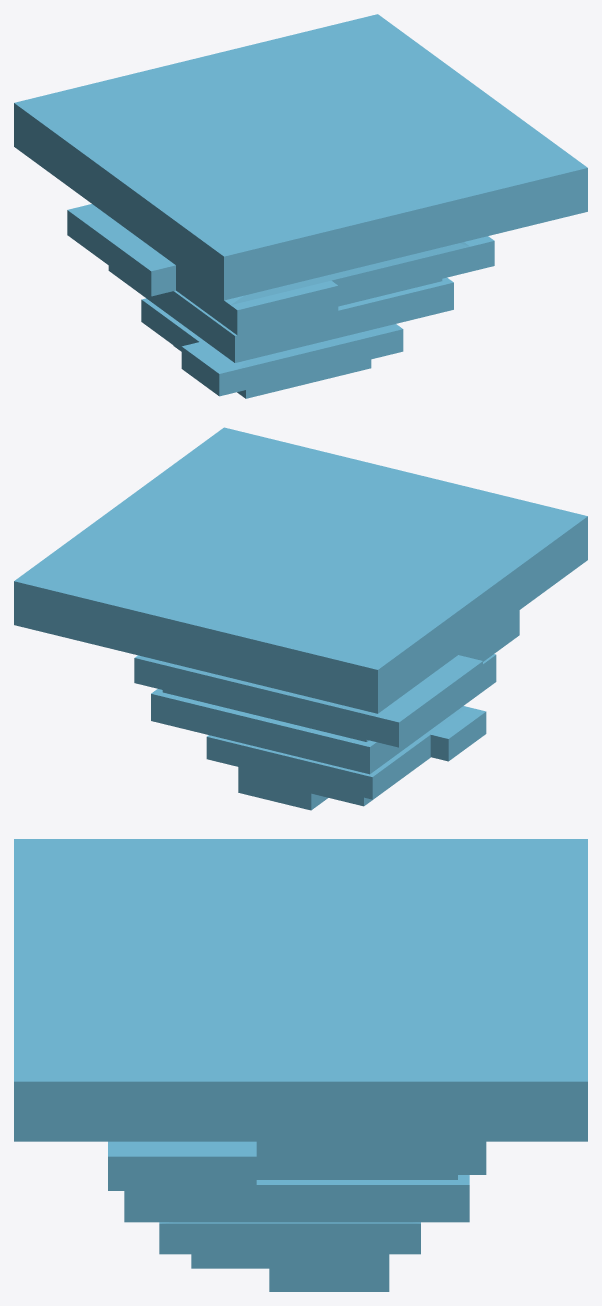
Rendered from Island03.fbx.
The picture shows the model from 3 angles, top to bottom: view 1: azimuth 30°, elevation 25°; view 2: azimuth 150°, elevation 25°; view 3: azimuth 270°, elevation 25°; orthographic projection. The views are drawn at different scales.
Parts seen in each view (by area): view 1: Cube; view 2: Cube; view 3: Cube.
Part boxes in pixels (bbox=[...]): Cube: bbox=[14, 14, 587, 398]; Cube: bbox=[14, 427, 587, 810]; Cube: bbox=[14, 839, 587, 1291].
Size of the model in its own units: 1529 by 915 by 1529.
